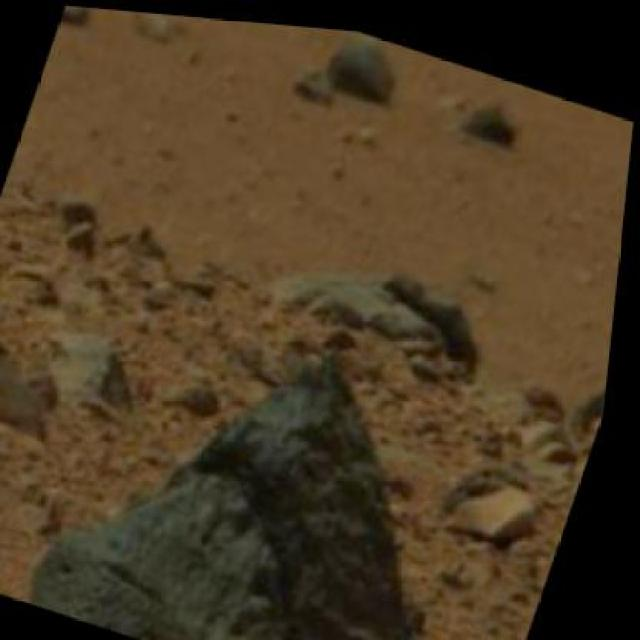rock: (31, 272, 571, 638), (248, 218, 509, 368), (451, 459, 560, 547), (0, 337, 86, 446), (321, 23, 414, 102), (458, 85, 532, 146), (57, 4, 105, 36)
